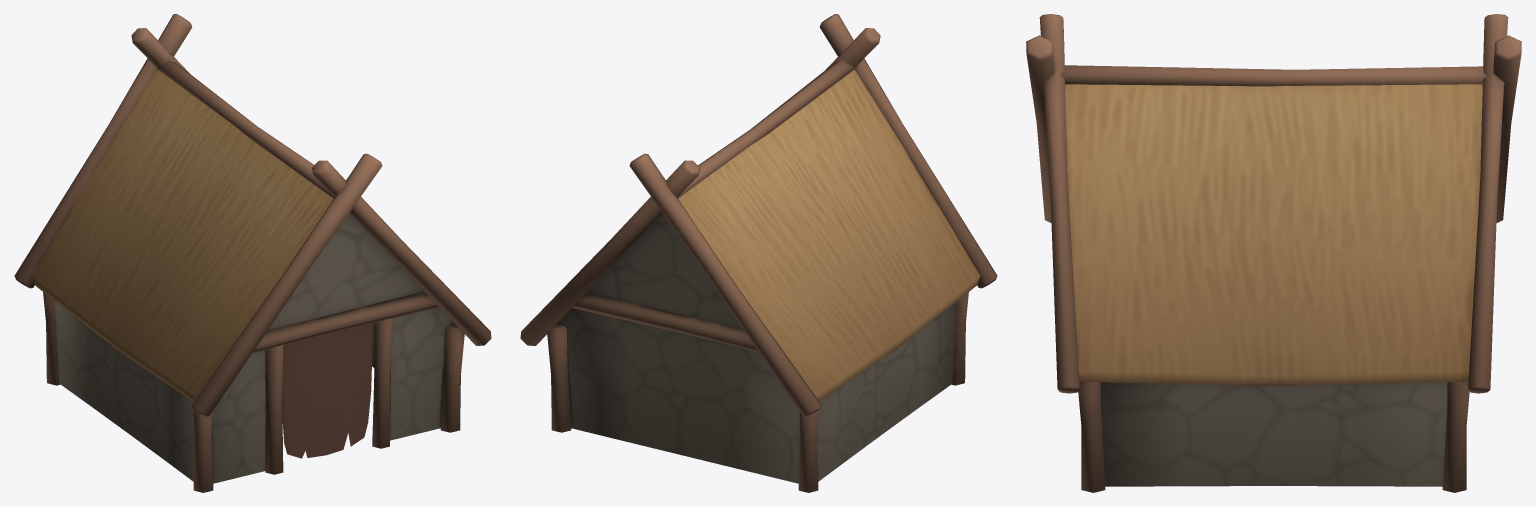
Rendered from stoneHouse_lod.fbx.
3 renders of one model, left to right at view 1: azimuth 30°, elevation 25°; view 2: azimuth 150°, elevation 25°; view 3: azimuth 270°, elevation 25°, orthographic. The views are drawn at different scales.
Parts seen in each view (by area): view 1: stoneHouse1_LOD0; view 2: stoneHouse1_LOD0; view 3: stoneHouse1_LOD0.
Part boxes in pixels (x1,y1,x2,y2): stoneHouse1_LOD0: (14, 14, 491, 492); stoneHouse1_LOD0: (520, 14, 997, 492); stoneHouse1_LOD0: (1026, 14, 1521, 492).
Size of what is drawn, in the model's own units: 159 by 157 by 182.
